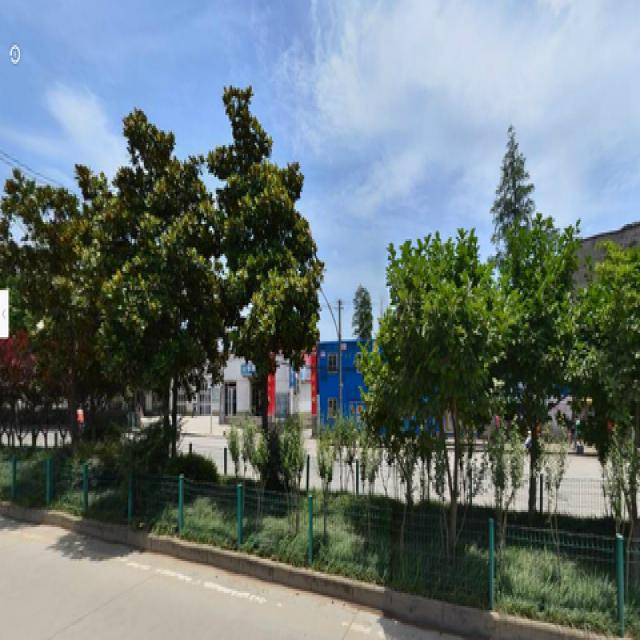magn: (195, 87, 309, 463)
